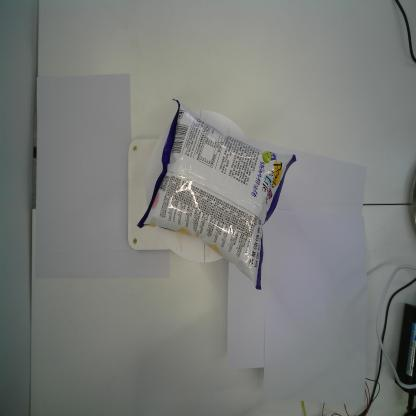Puffed Food: (136, 99, 297, 290)
